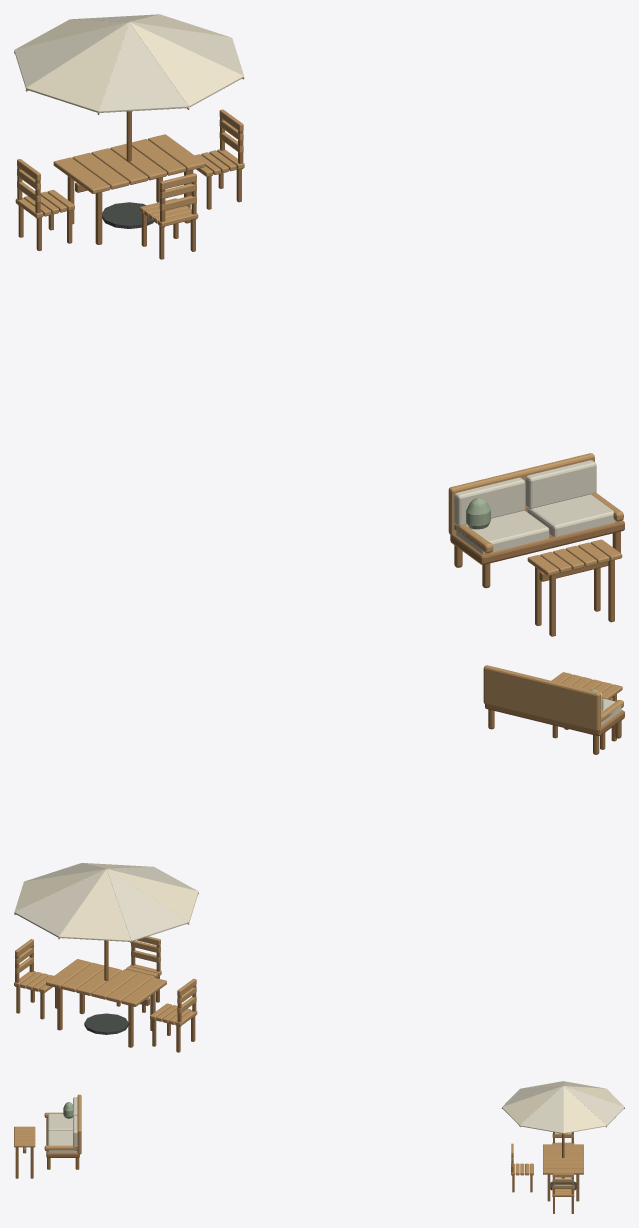
File: SM_PlayerHouse_OutdoorFurniture.fbx
3 views of the same model, one above another, from view 1: azimuth 30°, elevation 25°; view 2: azimuth 150°, elevation 25°; view 3: azimuth 270°, elevation 25° (orthographic). The views are drawn at different scales.
Parts seen in each view (by area): view 1: SM_PlayerHouse_OutdoorFurniture; view 2: SM_PlayerHouse_OutdoorFurniture; view 3: SM_PlayerHouse_OutdoorFurniture.
Boxes of the visible parts, <box> form: SM_PlayerHouse_OutdoorFurniture: <box>14,14,624,636</box>; SM_PlayerHouse_OutdoorFurniture: <box>14,665,624,1052</box>; SM_PlayerHouse_OutdoorFurniture: <box>14,1081,624,1213</box>.
Size of what is drawn, in the model's own units: 368 by 1490 by 280.
